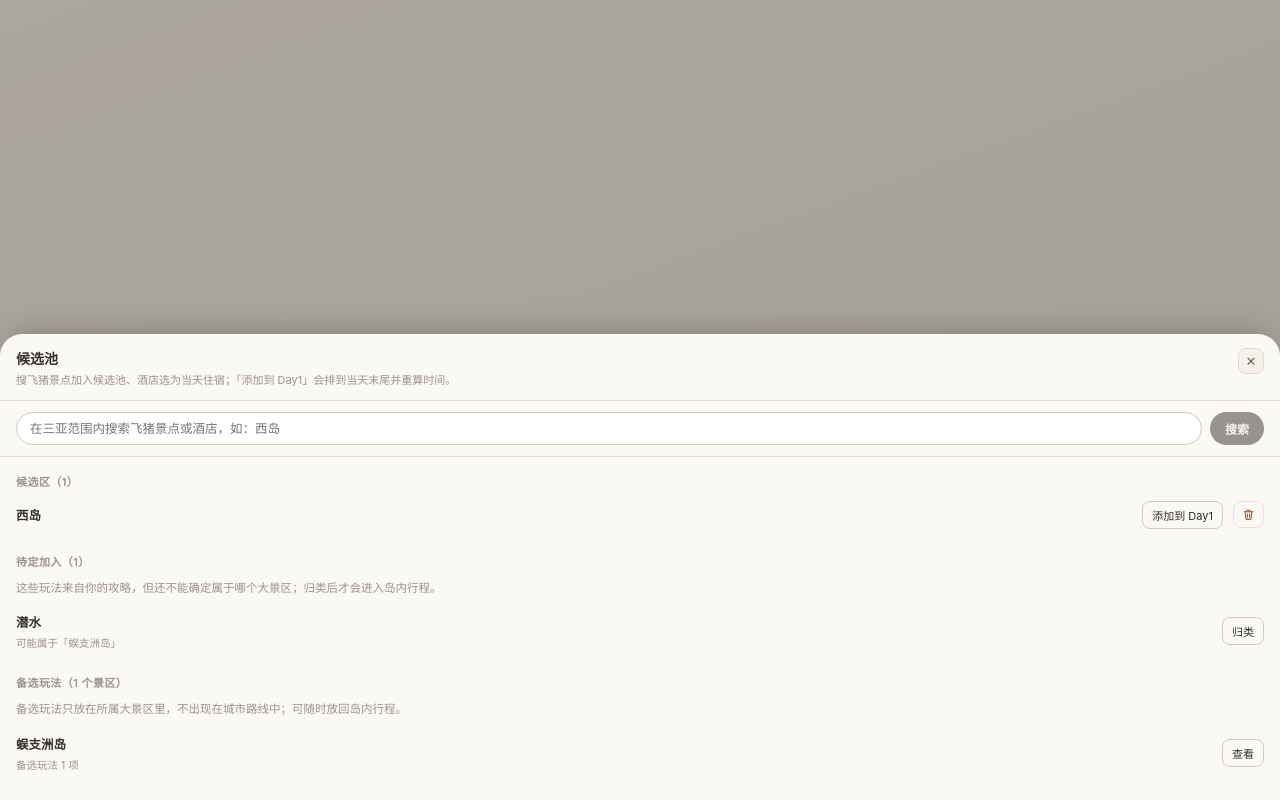
Scenario: CandidatePool 三区「建议 X」时长 chip（Task #343 开关关闭口径） › 区三备选玩法：展开后时长 chip 不渲染（.reserve-meta 整行不占位），名称与「放回」保留
The width and height of the screenshot is (1280, 800).
# 备选玩法区默认收起，点「查看」展开
Click the button "查看" at (1243, 753), box [1222,739,1264,767]
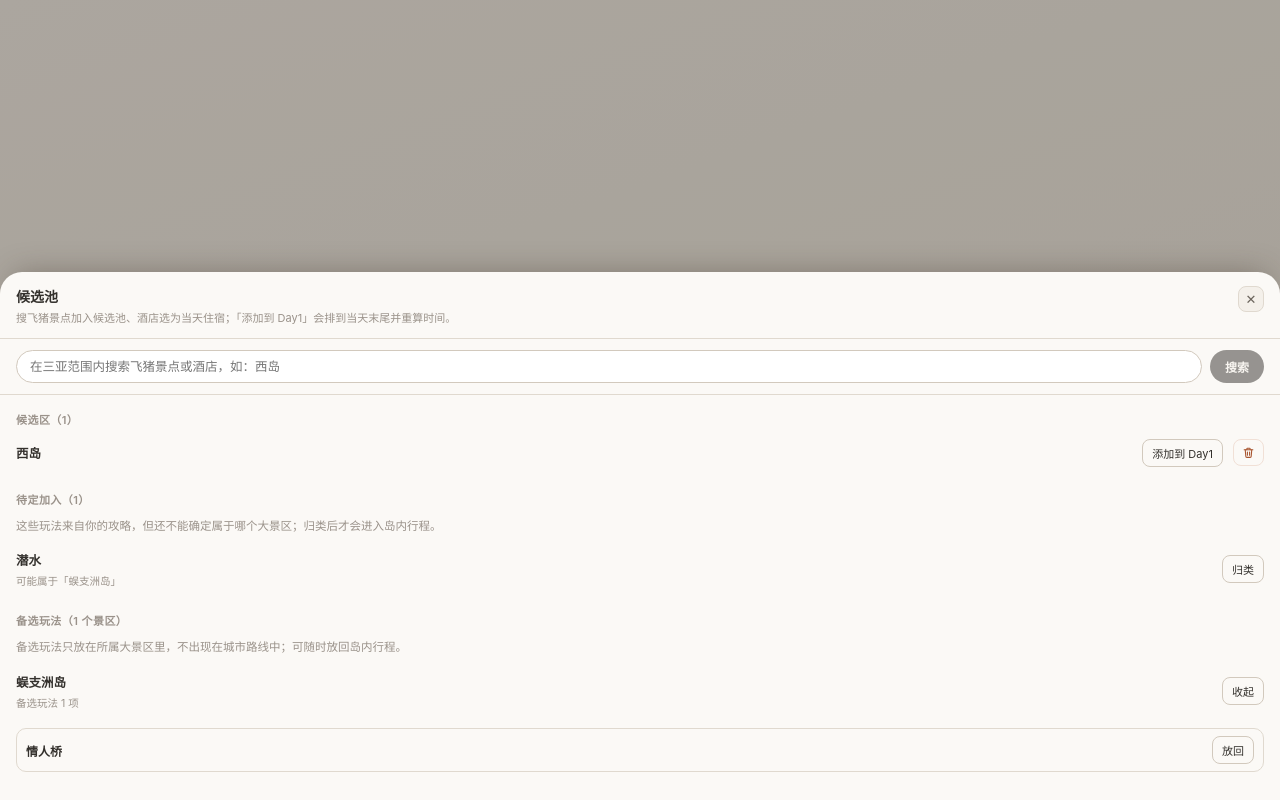
Expected: the element with class "reserve-item" is shown, [16,728,1264,772]
Expected: the text with class "reserve-name" reads "情人桥", [26,744,62,758]
Expected: the button "放回" is shown, [1212,736,1254,764]
